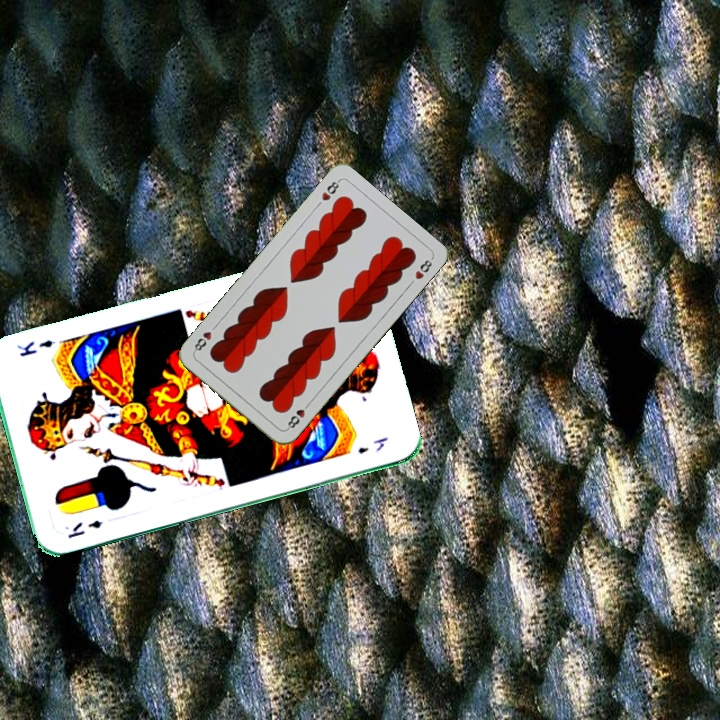EK: (64, 515, 105, 542)
H8: (283, 398, 313, 432), (317, 176, 342, 203)
